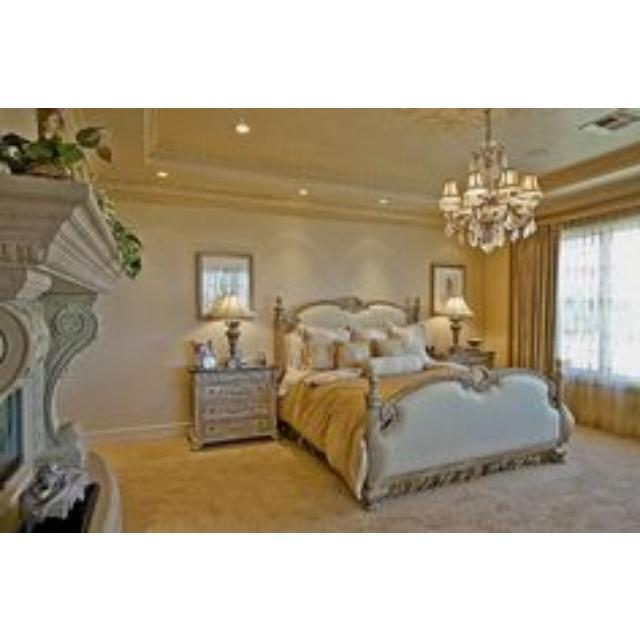bed: (279, 301, 574, 506)
curtain: (510, 192, 639, 375)
dresser: (190, 368, 276, 450)
lamp: (209, 294, 252, 366), (444, 296, 474, 350)
light: (439, 111, 542, 252)
wall-art: (198, 252, 251, 316), (431, 264, 465, 314)
